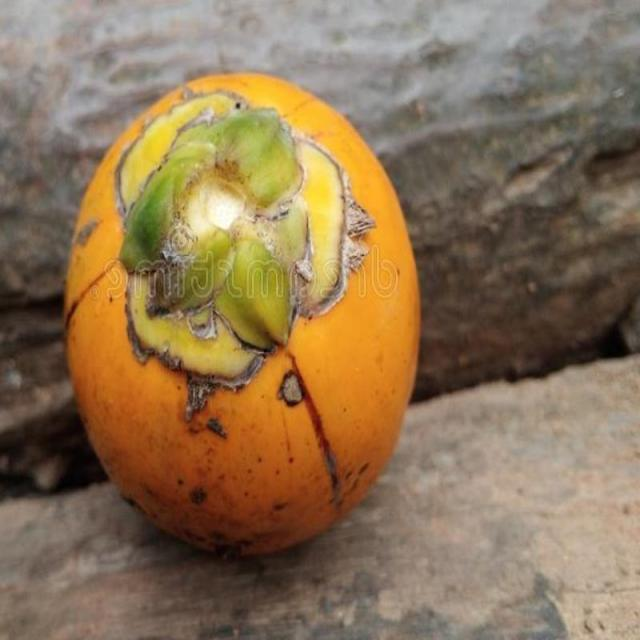good: (62, 73, 422, 561)
